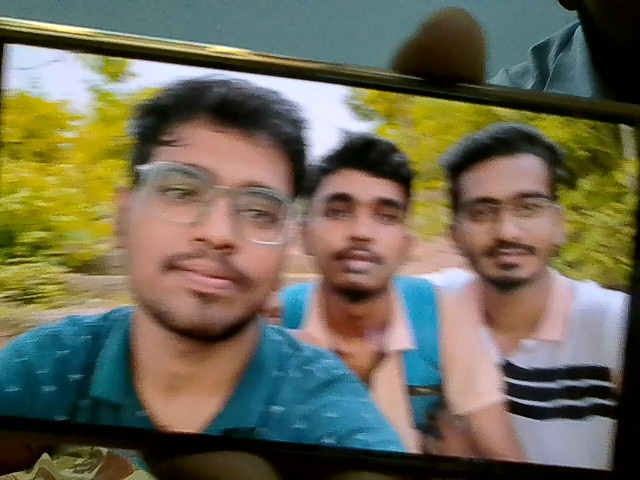real: (105, 59, 310, 349), (448, 112, 577, 295), (299, 130, 420, 301)
